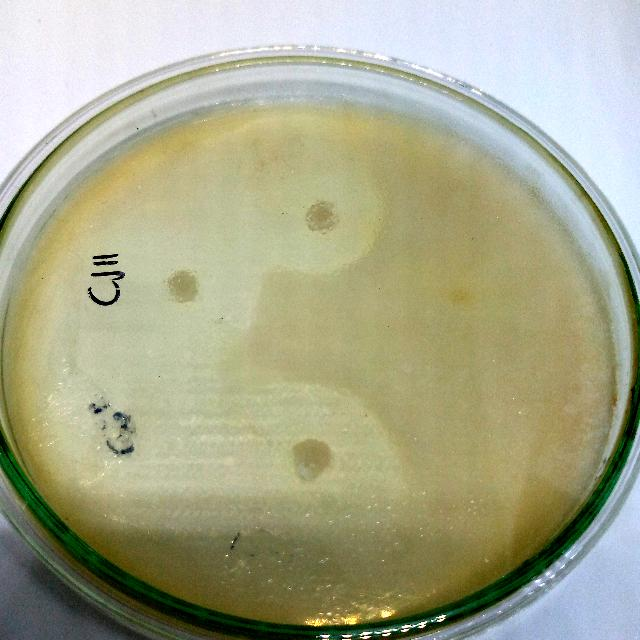colony: (286, 434, 336, 484), (161, 266, 203, 308), (302, 194, 342, 236)
